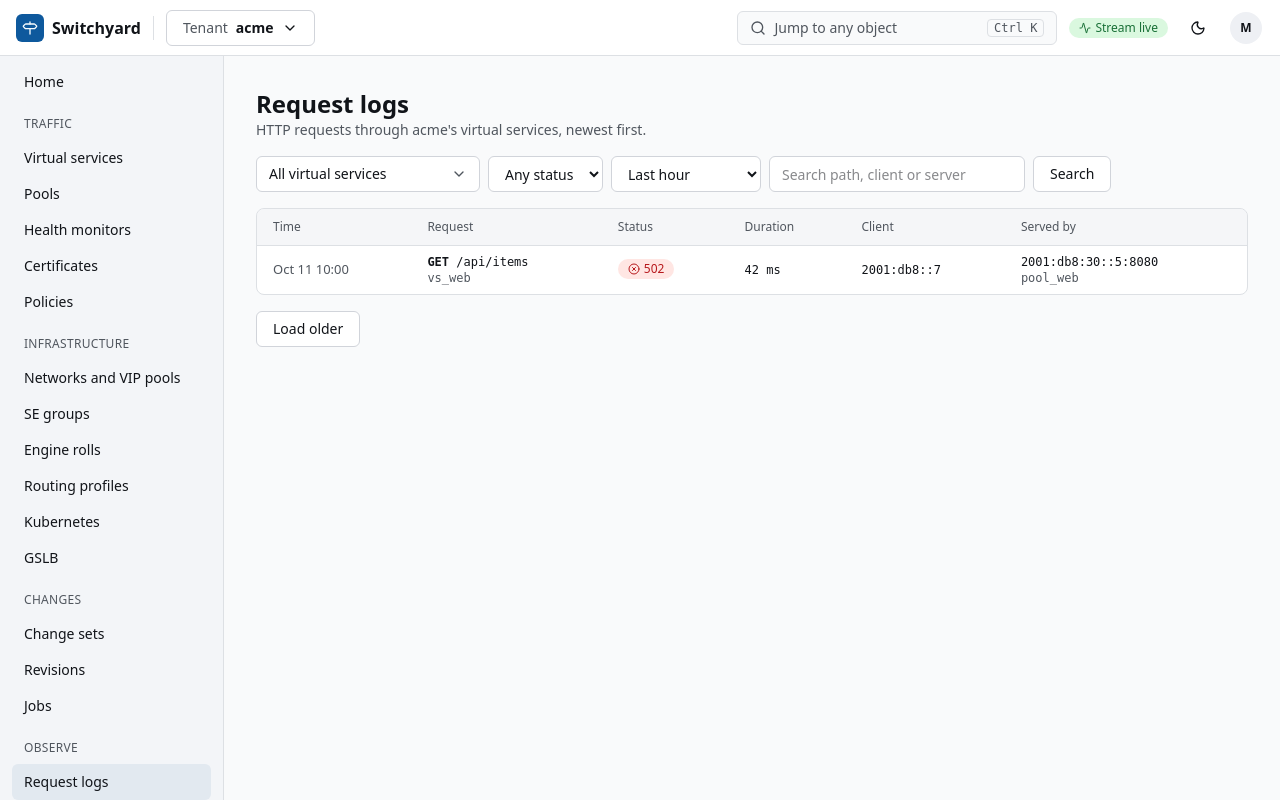
request logs › loads older lines with the cursor
The image size is (1280, 800).
Expected: the text "/api/items" is shown, [456, 255, 529, 269]
Click the button "Load older" at (308, 329), box [256, 311, 360, 347]
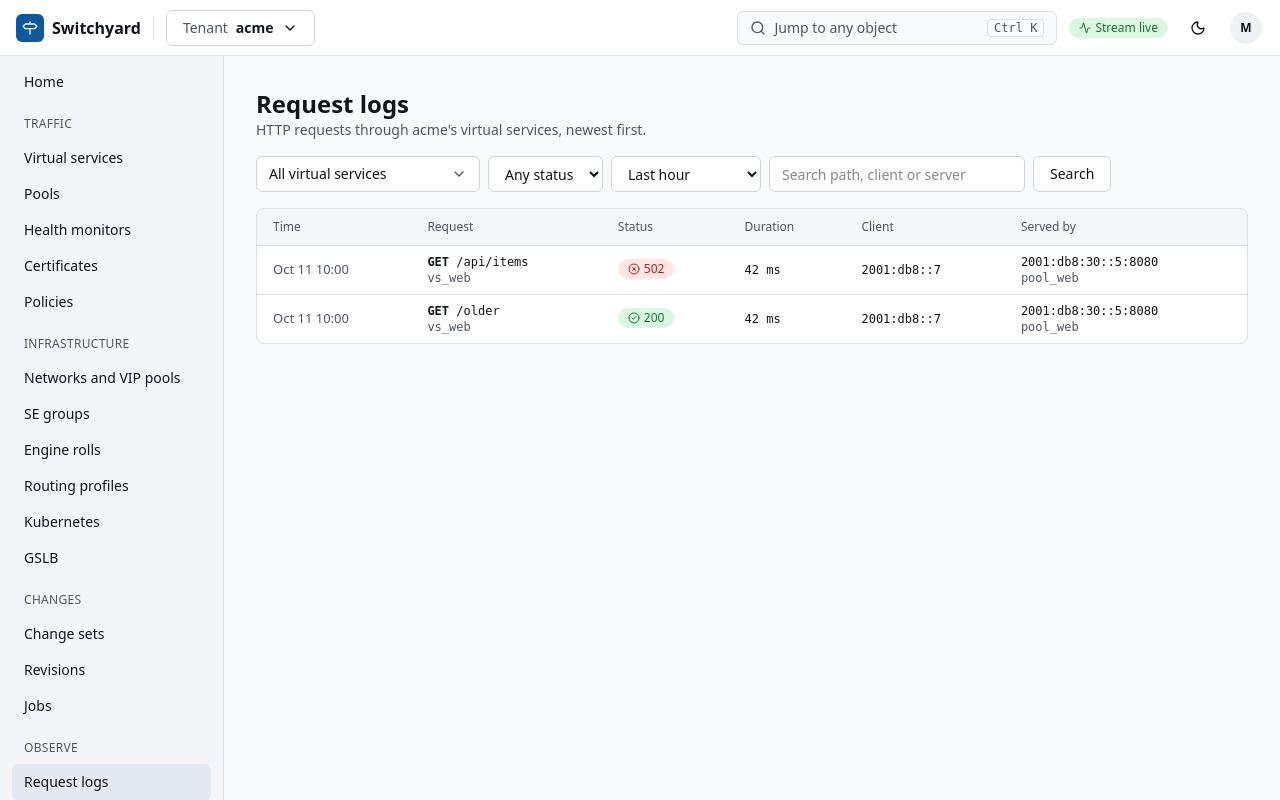
Expected: the text "/older" is shown, [456, 304, 500, 318]
Expected: the button "Load older" is gone
